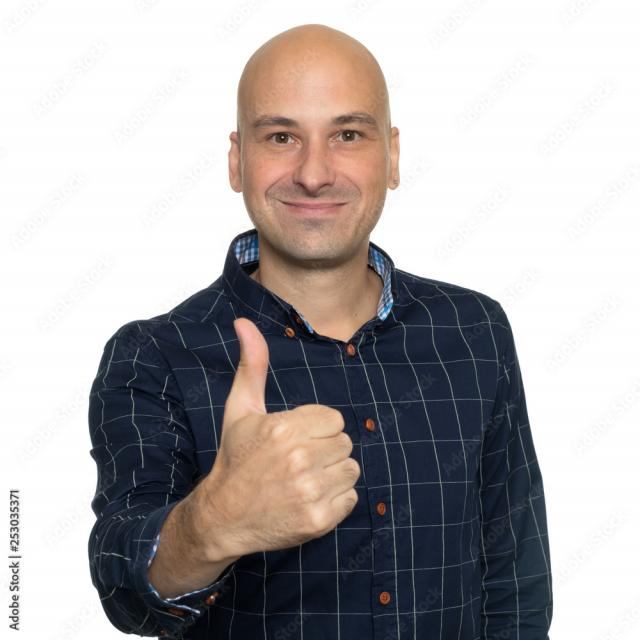bald: (210, 16, 408, 158)
